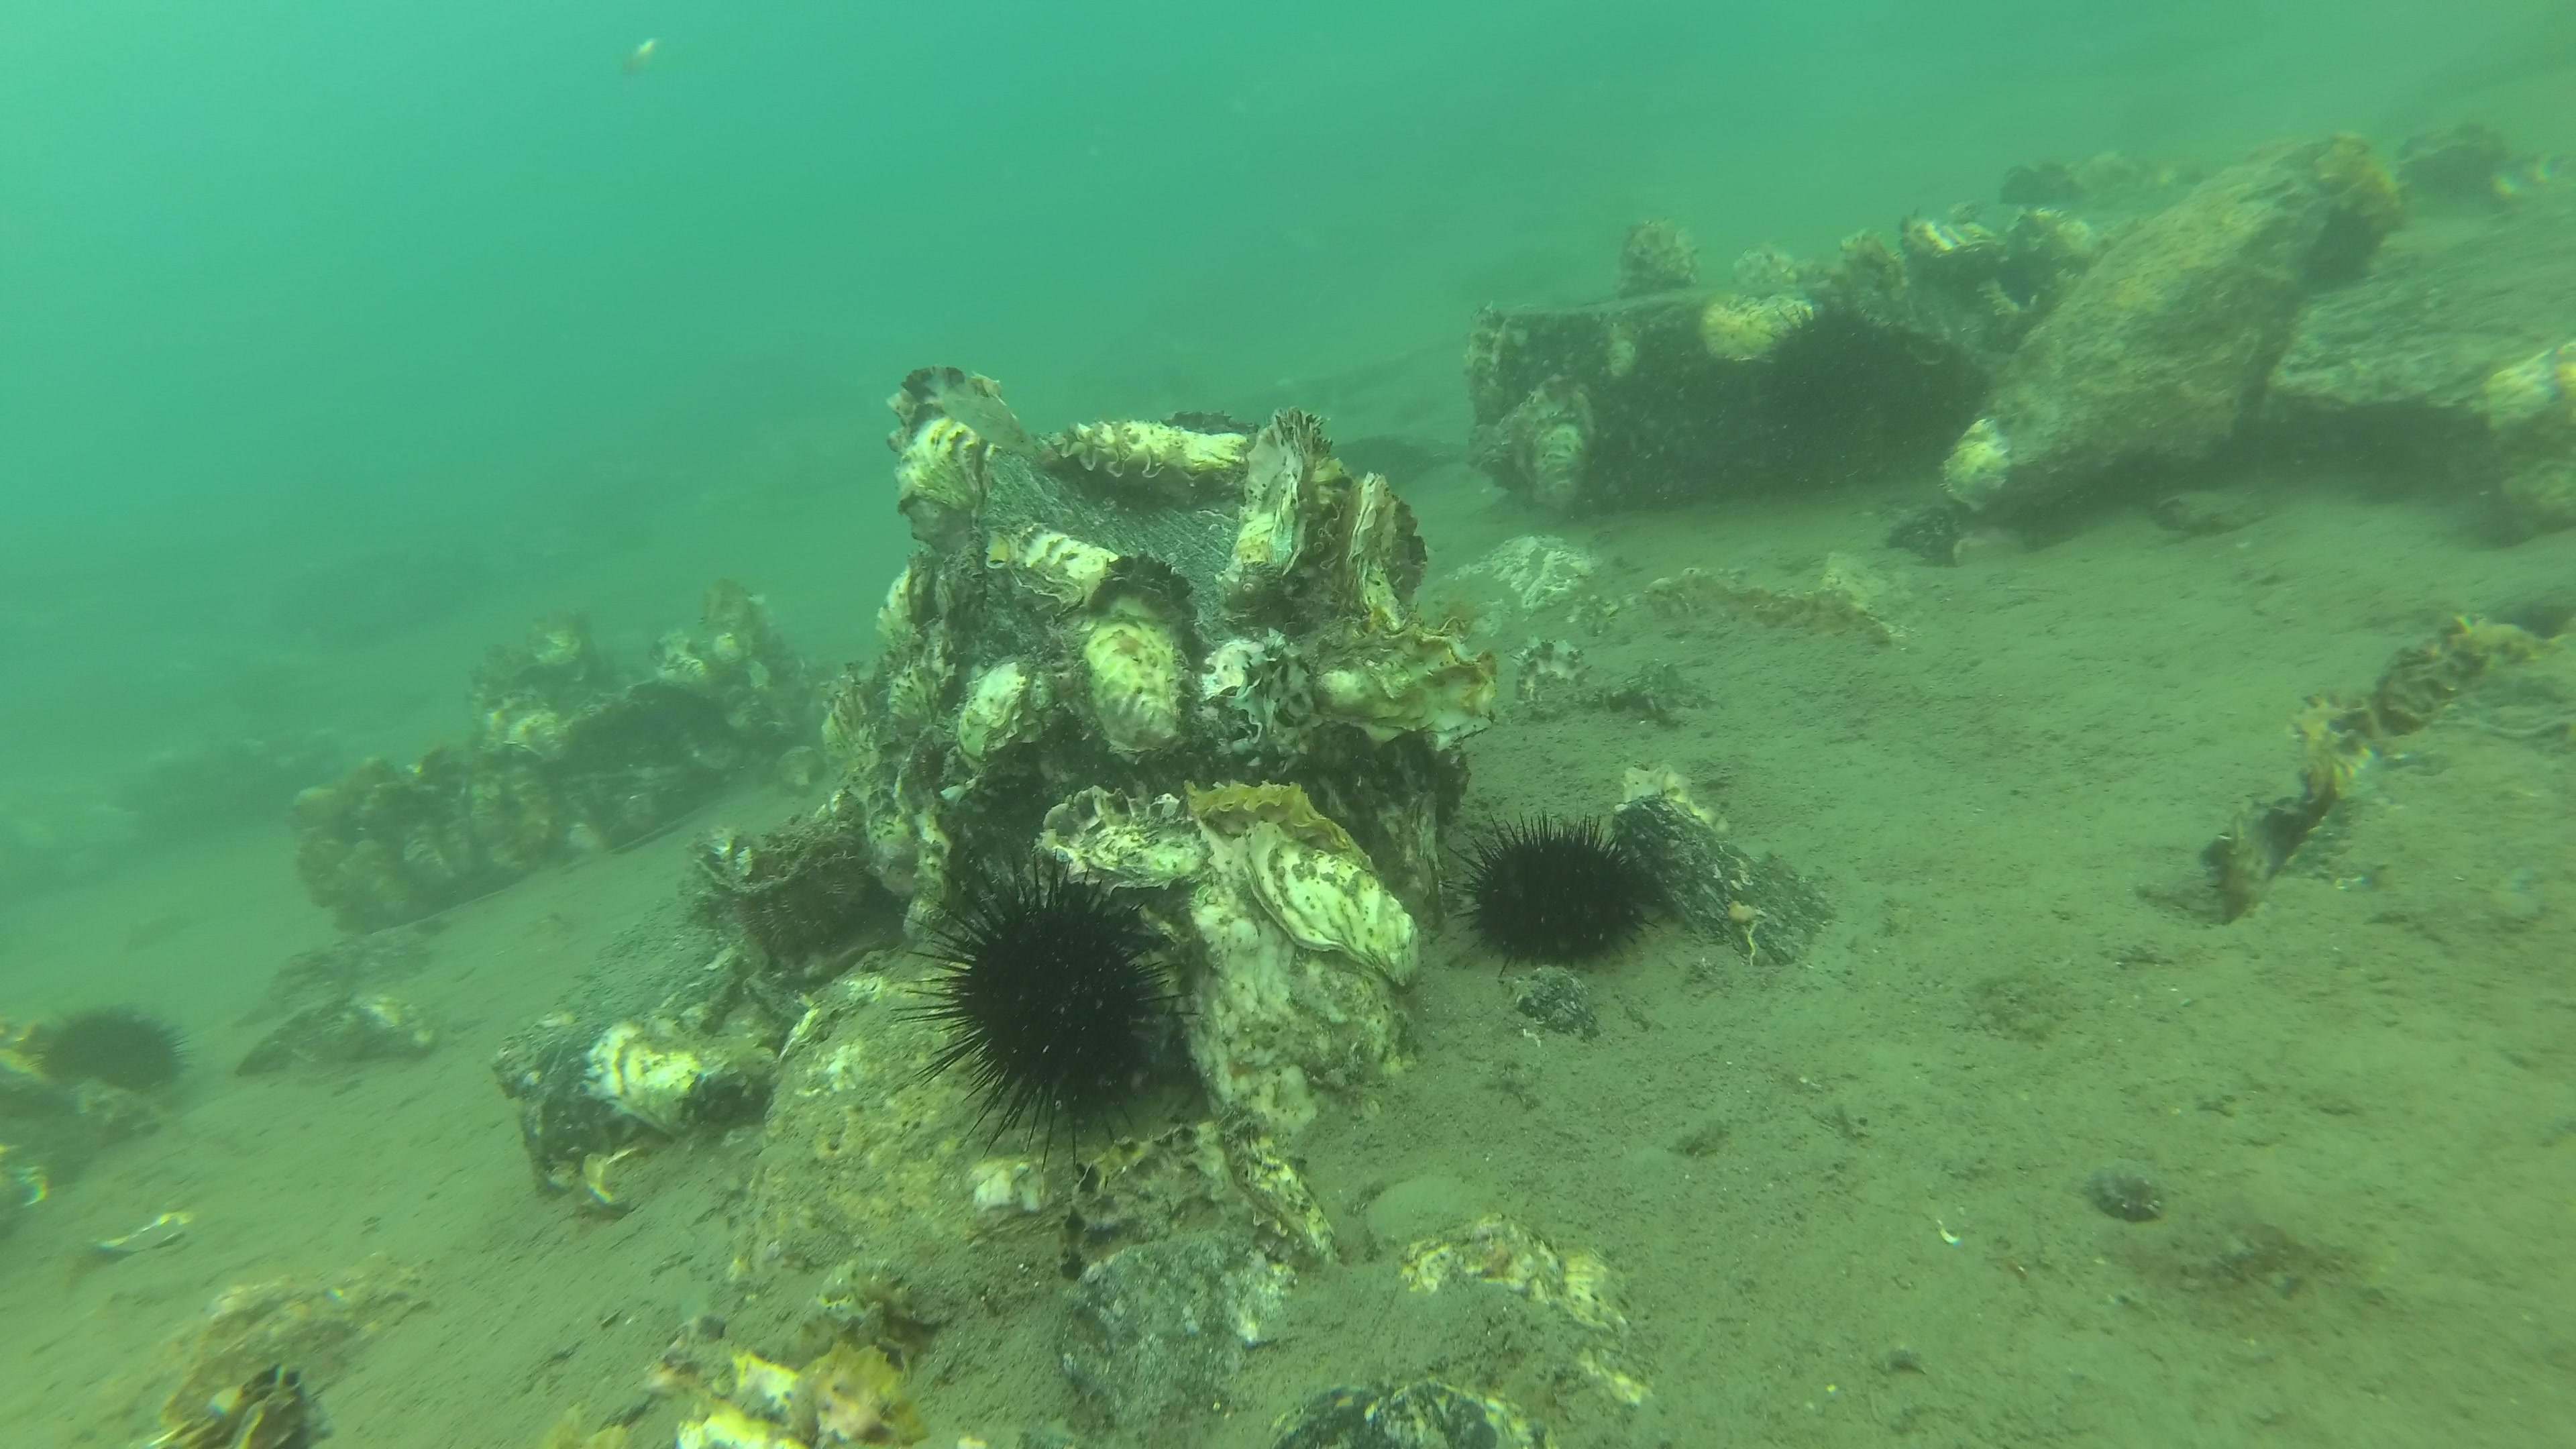echinus: (888, 846, 1201, 1175), (1438, 807, 1661, 980), (23, 1003, 198, 1095), (1759, 299, 1904, 405), (738, 872, 872, 959), (913, 743, 948, 782)
